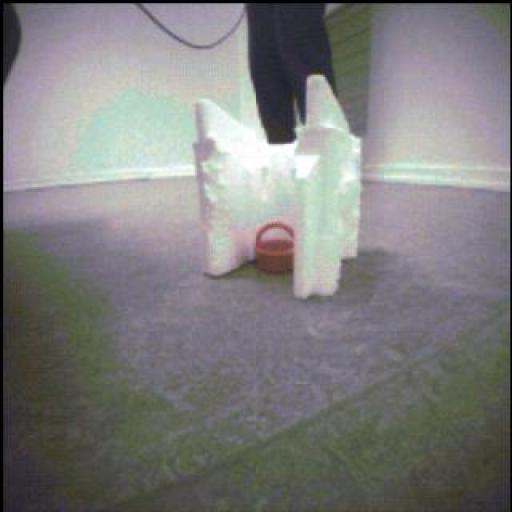Bucket: (257, 222, 295, 275)
